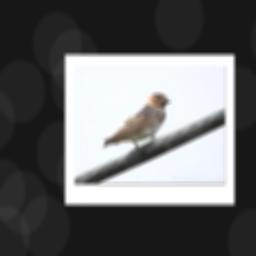Swallow: (100, 92, 172, 152)
